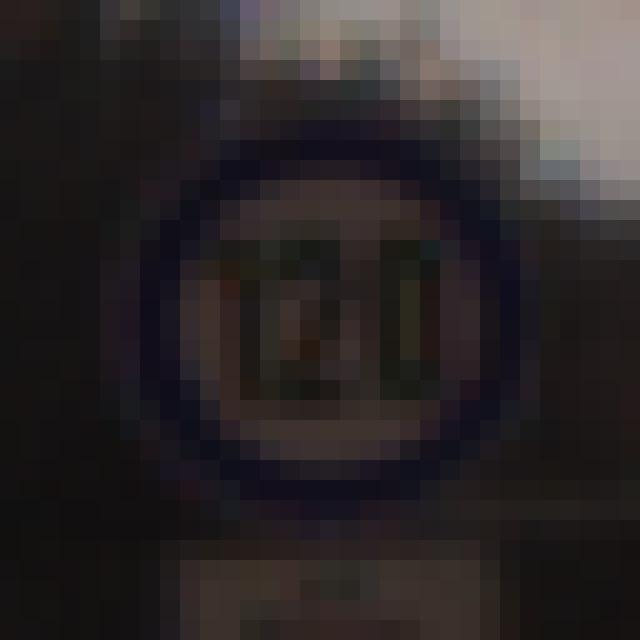SPEED LIMIT 120: (111, 126, 529, 494)
